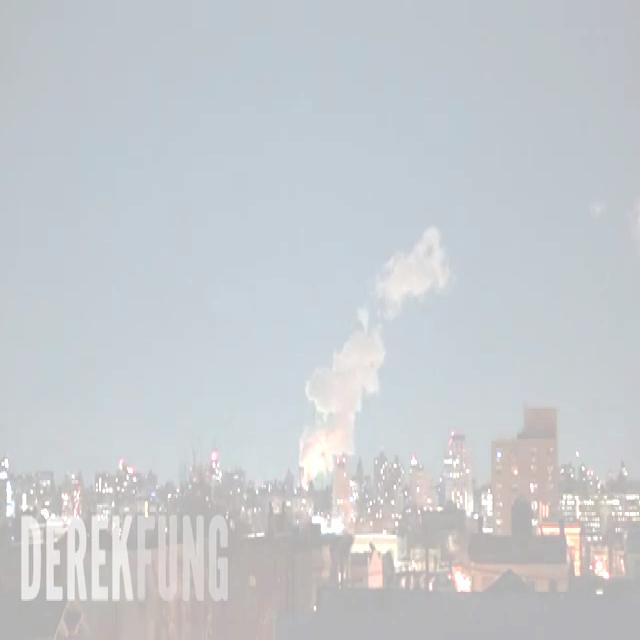smoke: (301, 306, 384, 468)
